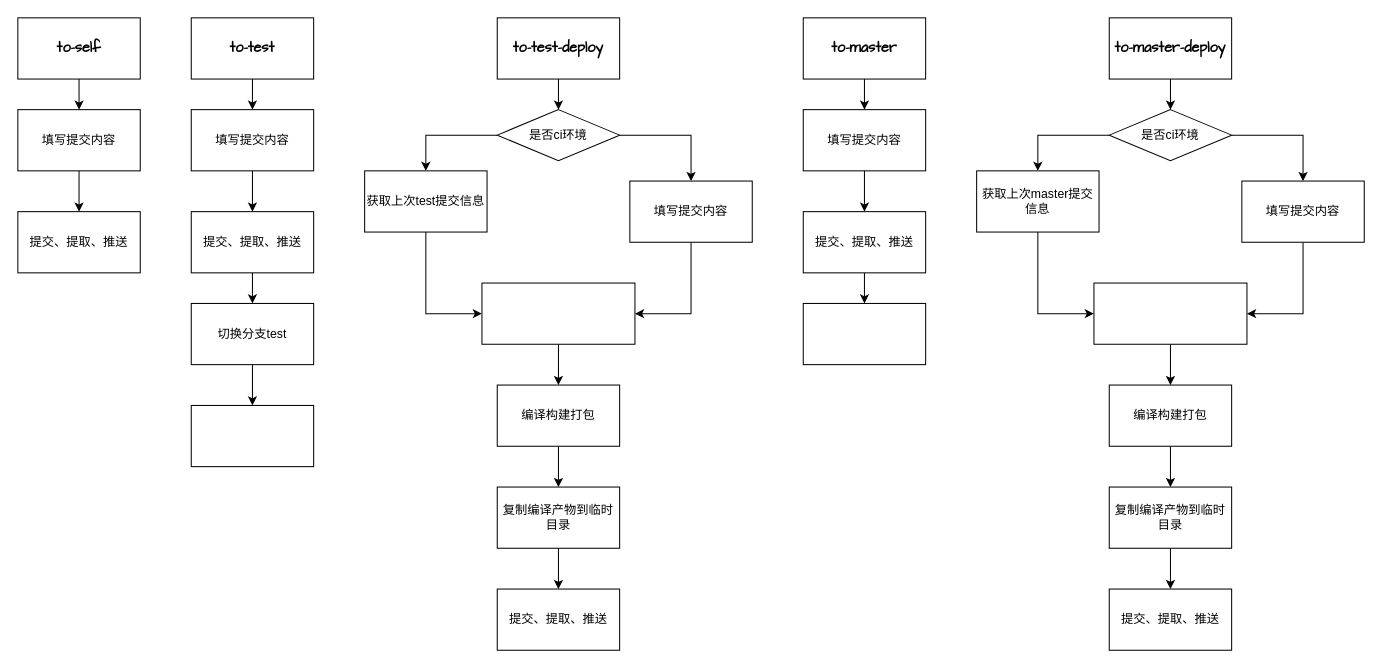
This 1382x668 diagram has some shape labels left out. The shapes that lost their labels are listed below. From the top down, each one's centre as x and y in pixels, then its label:
At [558,313]: "拉取test-deploy到临时目录".
At [864,333]: "创建mr，从feature到master".
At [1170,313]: "拉取master-deploy到临时目录".
At [252,435]: "拉取、合并分支、提交".
